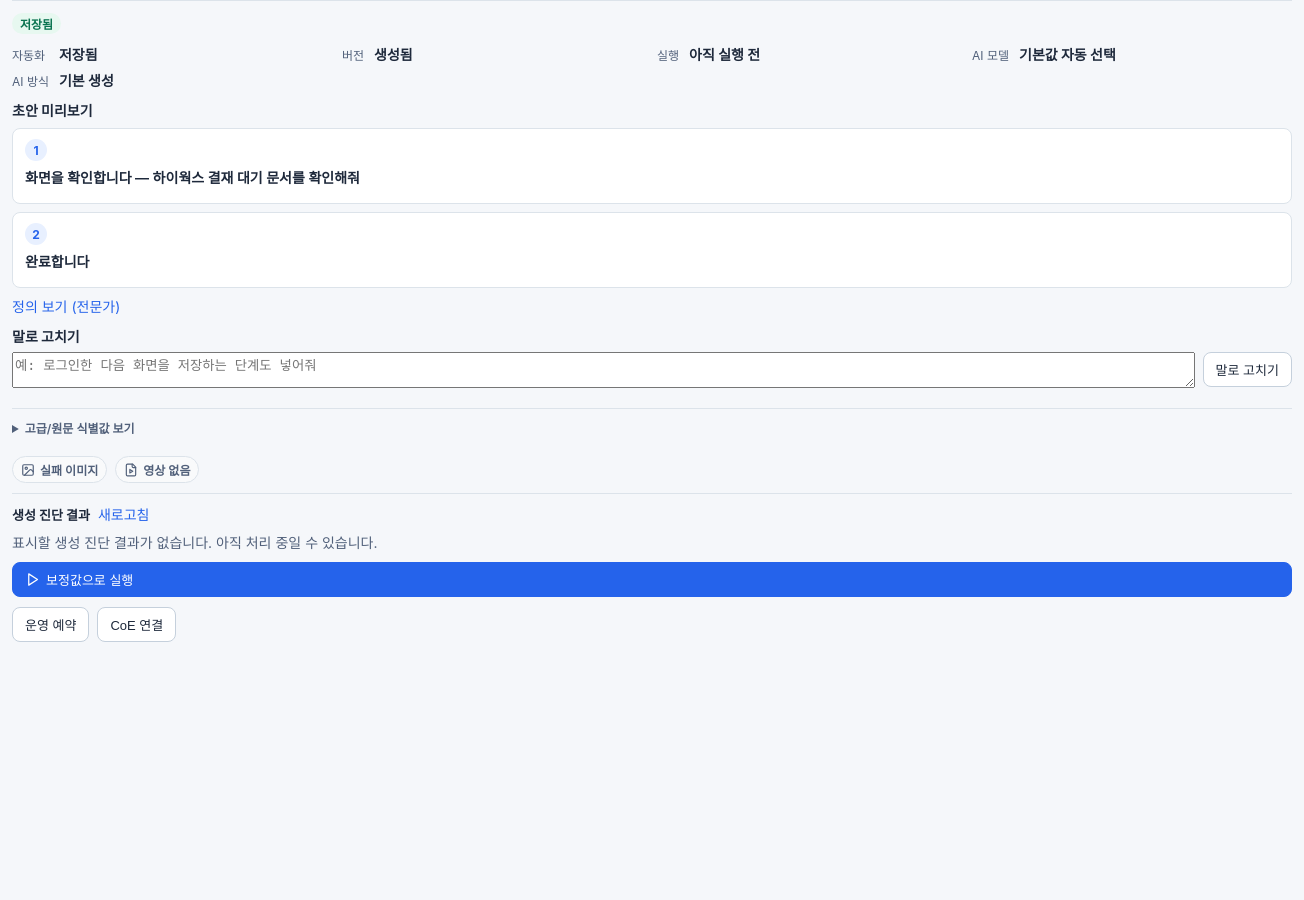
Test: GenerationResult revise 변경 표시 — 저장본끼리 비교 승격 (#453 한계 해소) › 저장 완료: instruction 만 바뀐 revise 도 '달라진 단계'로 표시된다(응답끼리 비교였으면 무표시)
This screenshot has width=1304, height=900.
Expected: the text "화면을 확인합니다 — 하이웍스 결재 대기 문서를 확인해줘" is shown, [25, 167, 360, 187]
In the text box named "수정 요청 입력": coordinates (603, 370) [12, 352, 1195, 388], type "반려 문서로 바꿔줘"
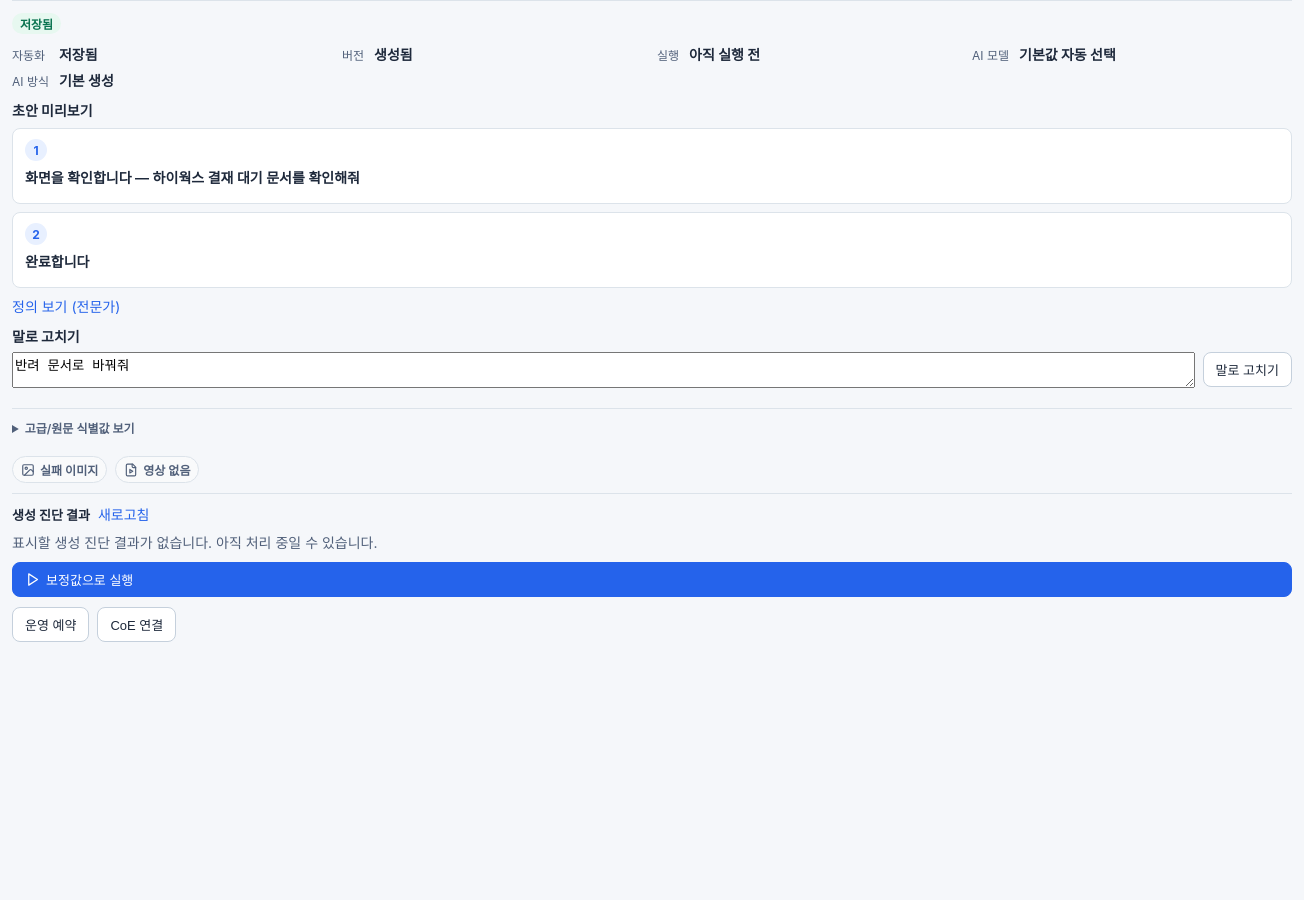
Click the button "말로 고치기": coordinates (1247, 370) [1203, 352, 1292, 387]
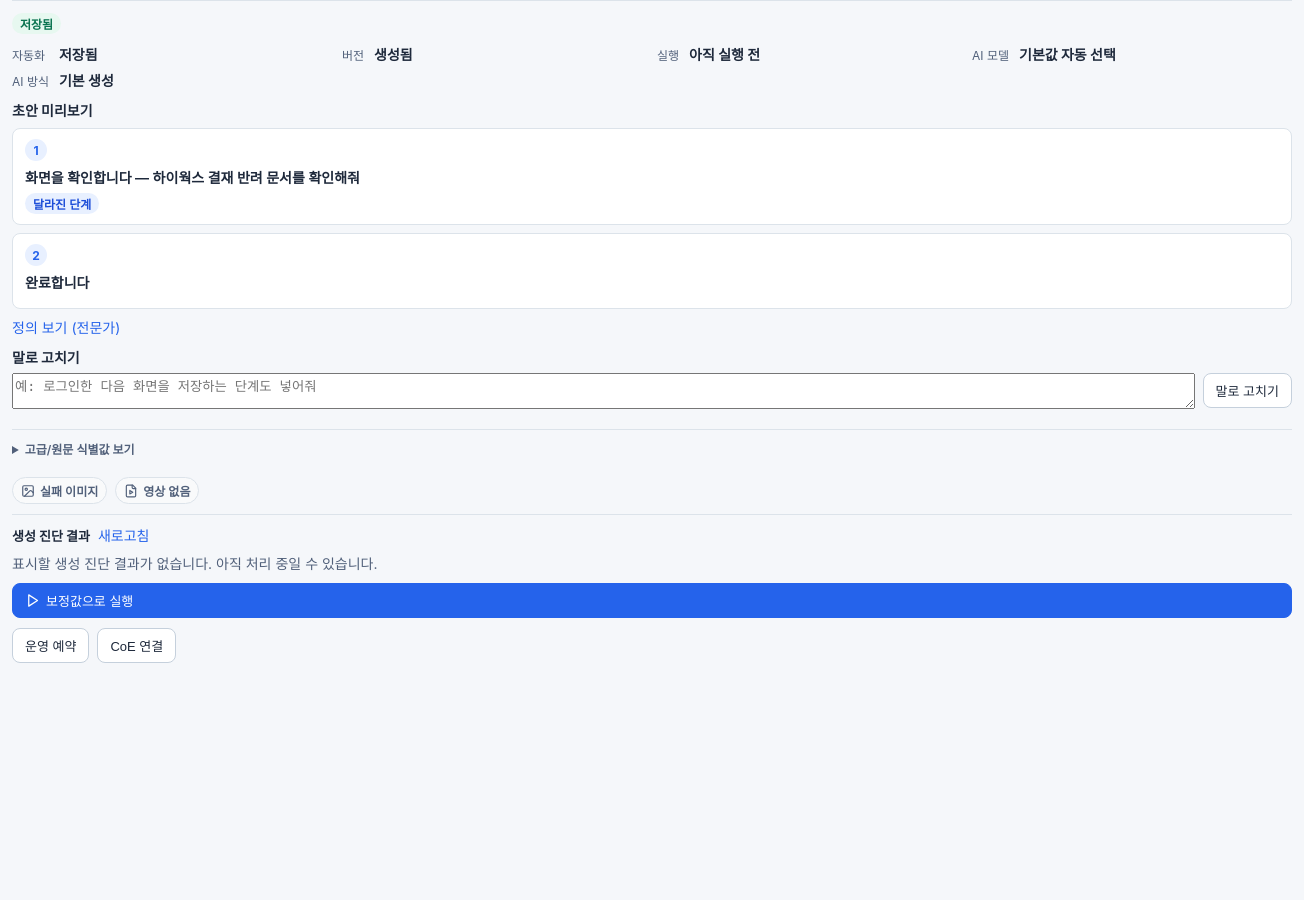
Result: the text "달라진 단계" is shown at [25, 193, 99, 214]
Result: the text "화면을 확인합니다 — 하이웍스 결재 반려 문서를 확인해줘" is shown at [25, 167, 360, 187]
